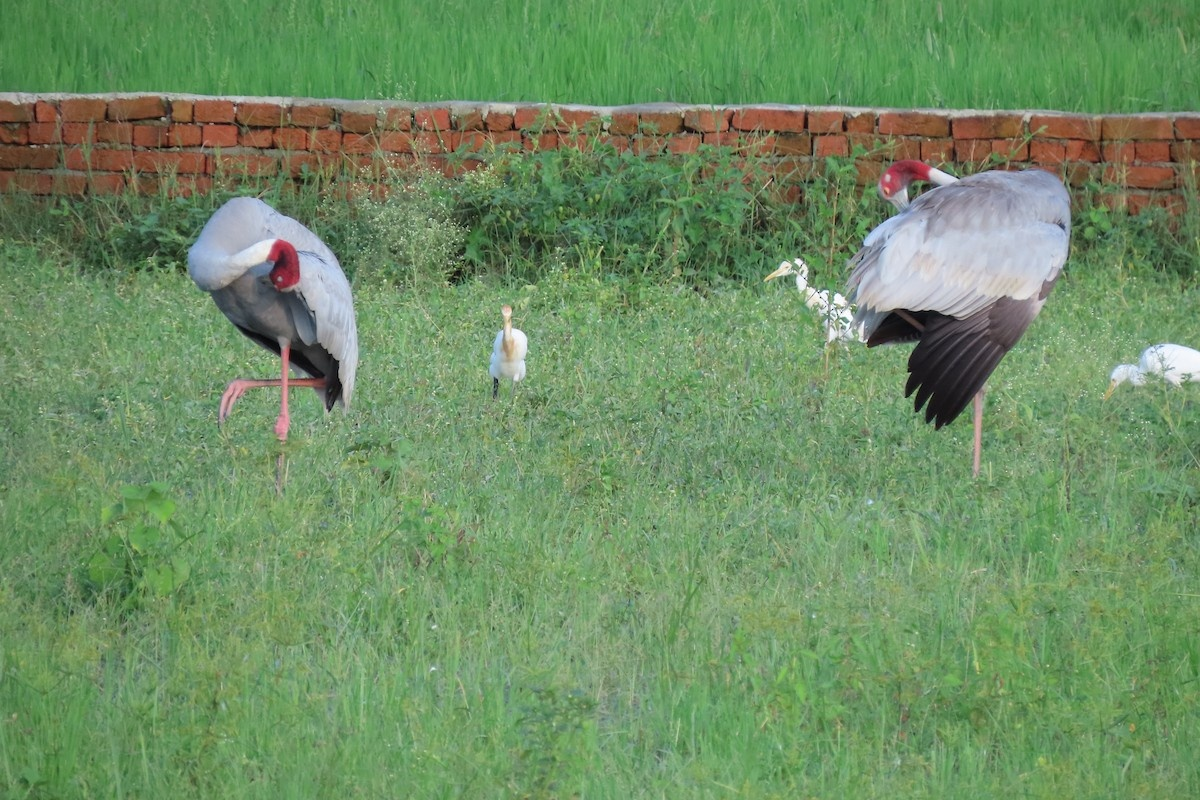crane: (845, 148, 1067, 476), (189, 188, 387, 460)
